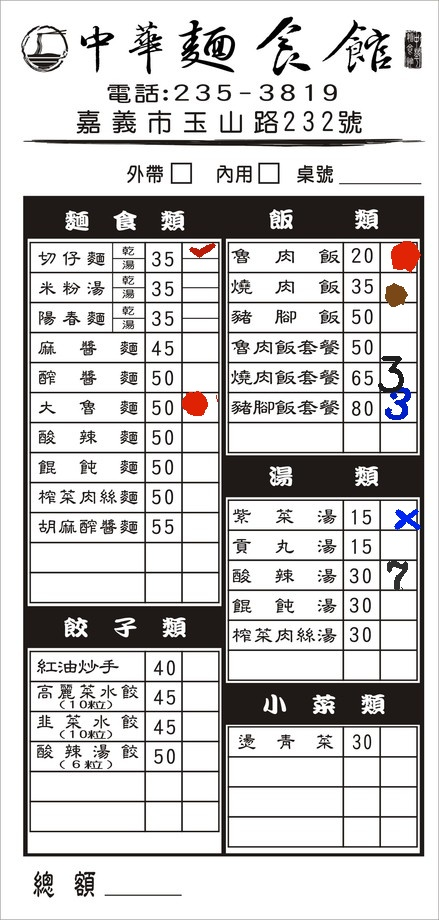marked_circle: (378, 271, 414, 300), (381, 242, 417, 271), (181, 392, 217, 421)
marked_number_3: (381, 393, 417, 422), (381, 360, 417, 389)
marked_number_7: (380, 561, 416, 590)
marked_tick: (183, 244, 217, 257)
marked_x: (381, 500, 417, 529)
